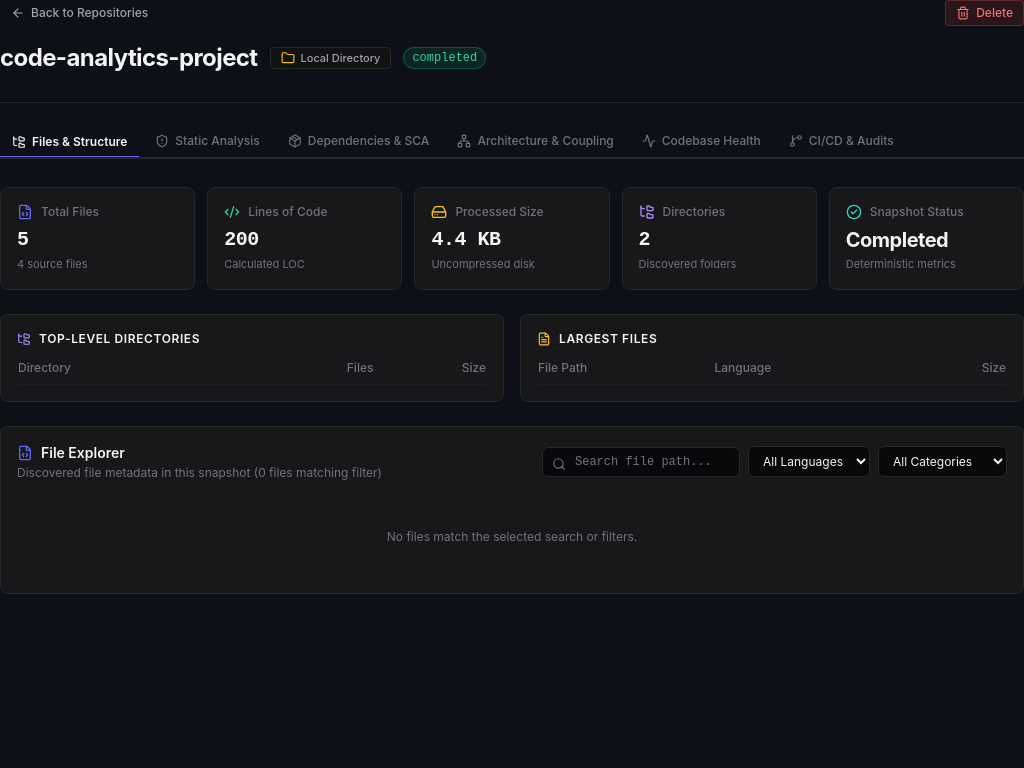
Static Analysis Tab & Findings Exploration › renders findings table and opens detail modal on row click
# Switch to analysis tab
Click the button "Static Analysis". click: x=208, y=142
box: [143,127,272,157]
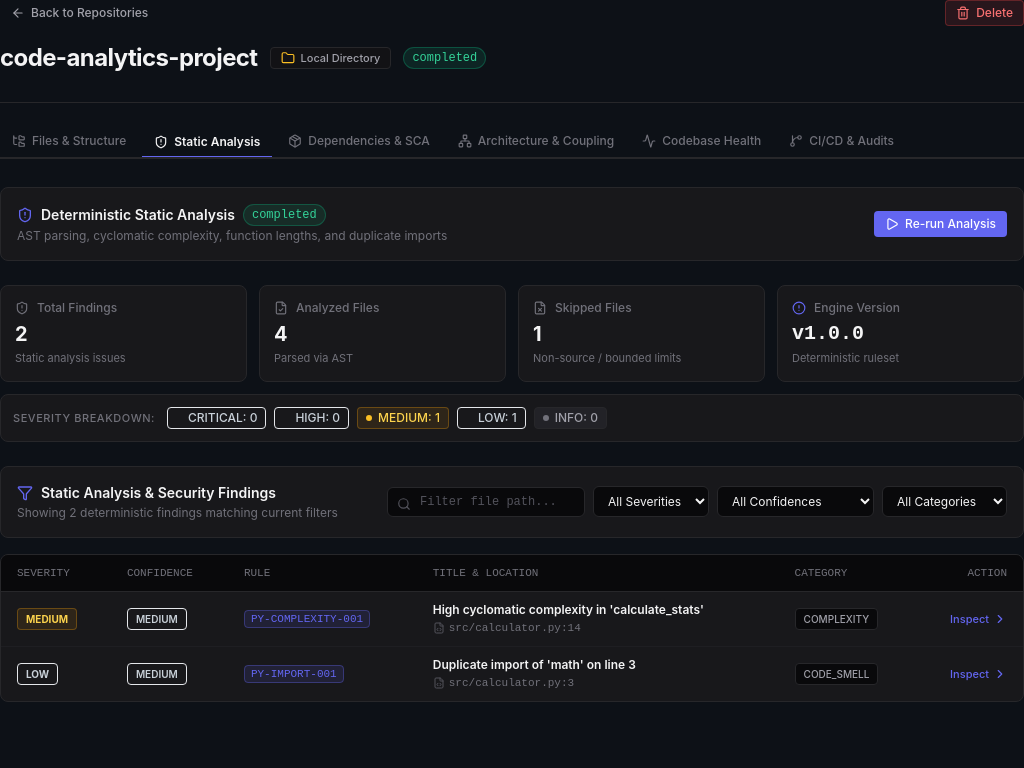
Check: the text "PY-COMPLEXITY-001" is shown, box [244,610,370,628]
Check: the text "PY-IMPORT-001" is shown, box [244,665,344,683]
Check: the text "High cyclomatic complexity in 'calculate_stats'" is shown, box [433,602,704,618]
# Click Inspect button to open detail modal
Click the button "Inspect" in the row of "PY-COMPLEXITY-001". click: x=979, y=618
box: [950,610,1007,626]
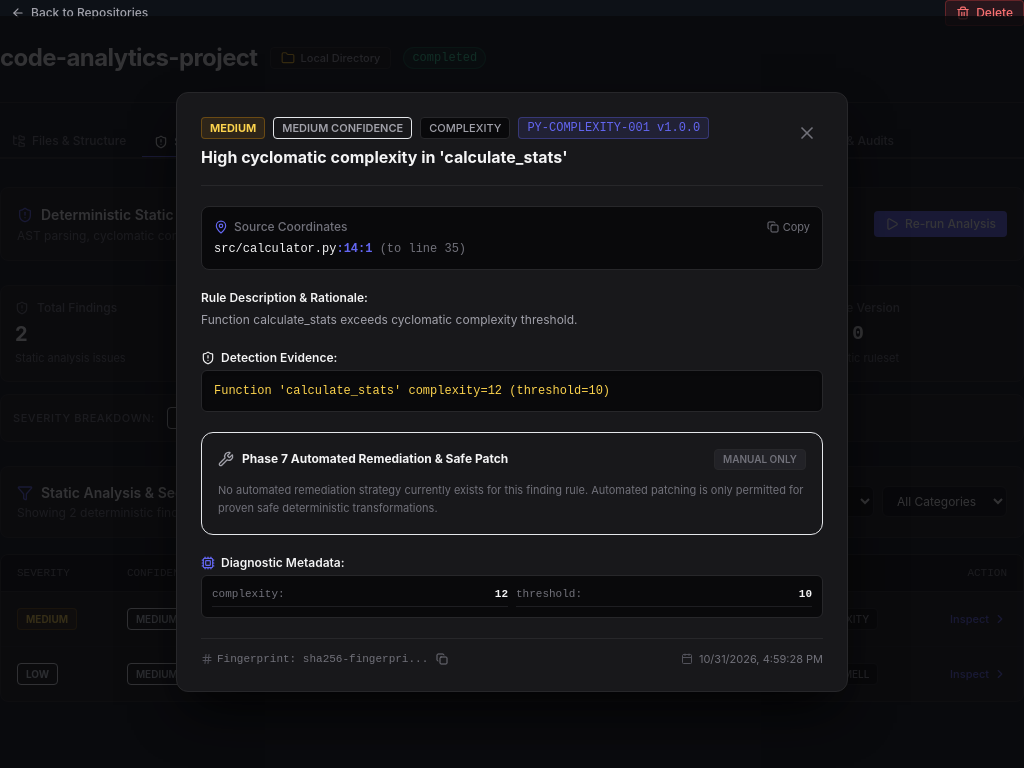
Check: the text "Rule Description & Rationale:" is shown, box [201,290,368,305]
Check: the text "Detection Evidence:" is shown, box [221,350,337,366]
Check: the text titled "sha256-fingerprint-12345" is shown, box [217,651,428,667]
# Close modal
Click the button named "Close dialog". click: x=807, y=133
box: [791,117,823,149]
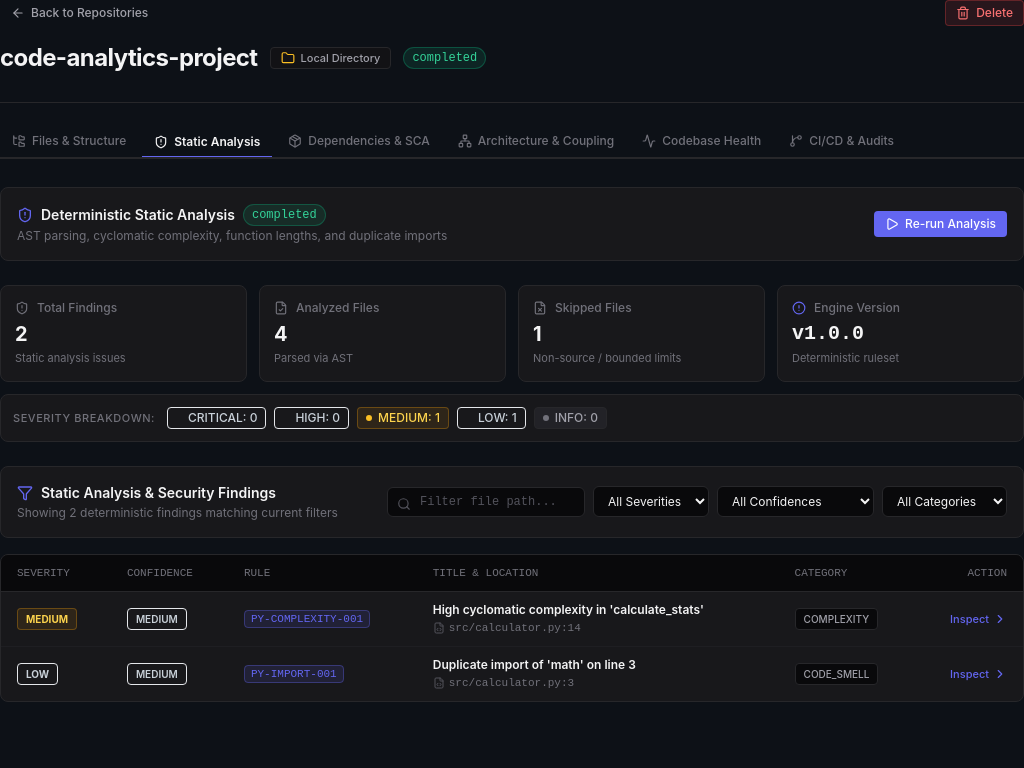
Check: the text "Rule Description & Rationale:" is gone
